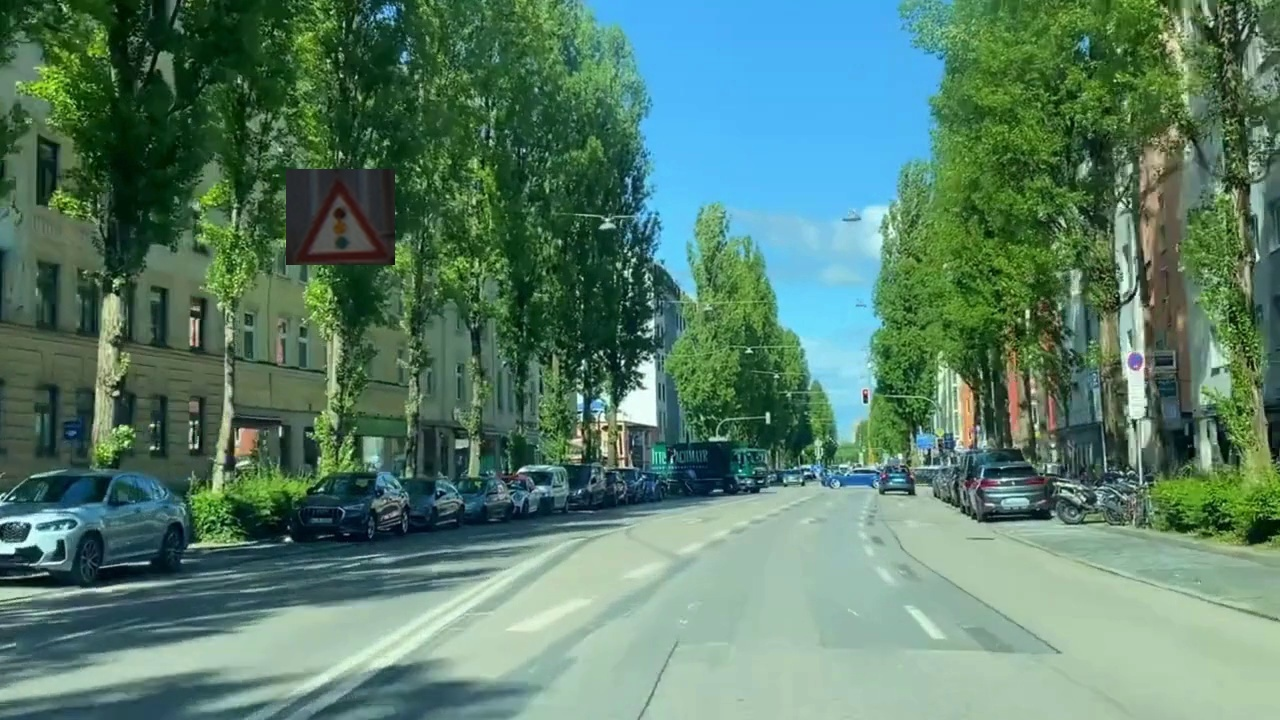Signals: (286, 169, 395, 265)
